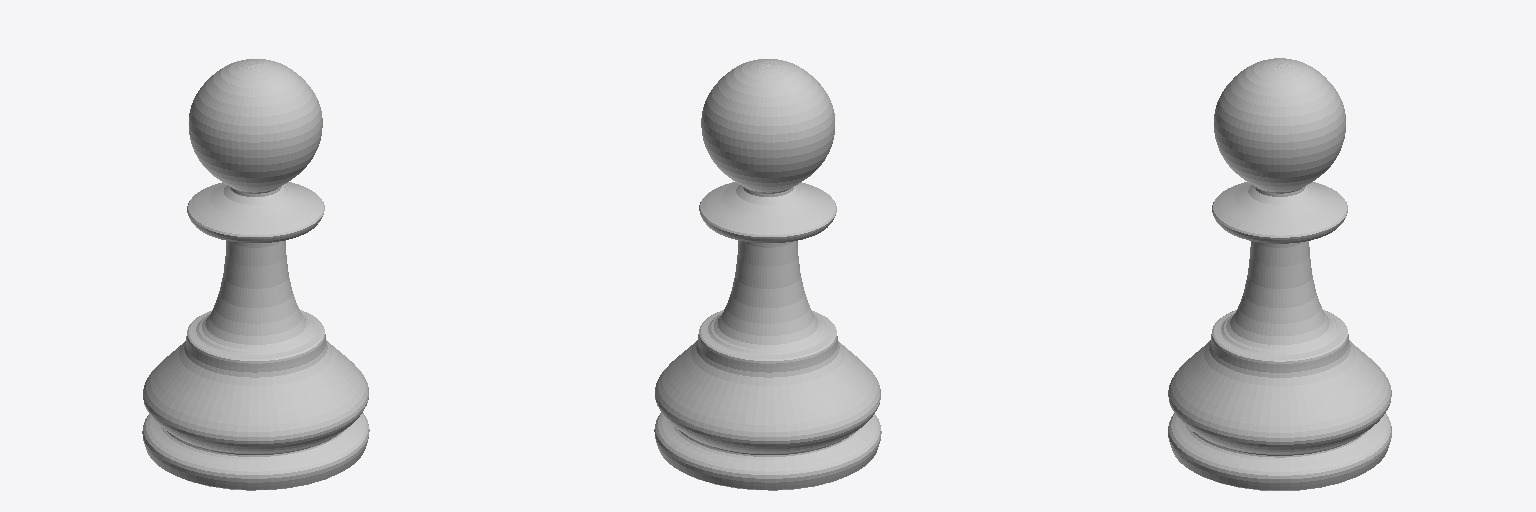
File: pawn.obj
The picture shows the model from 3 angles: view 1: azimuth 30°, elevation 25°; view 2: azimuth 150°, elevation 25°; view 3: azimuth 270°, elevation 25°; orthographic projection.
Visible parts, largest first — view 1: pawn_black_8_Cylinder.013; view 2: pawn_black_8_Cylinder.013; view 3: pawn_black_8_Cylinder.013.
Boxes of the visible parts, x1,y1,x2,y2 form: pawn_black_8_Cylinder.013: [142, 59, 369, 490]; pawn_black_8_Cylinder.013: [654, 59, 881, 490]; pawn_black_8_Cylinder.013: [1168, 58, 1391, 490].
Bounding box in the file's own units: 0.9866 × 1.83 × 0.9699.